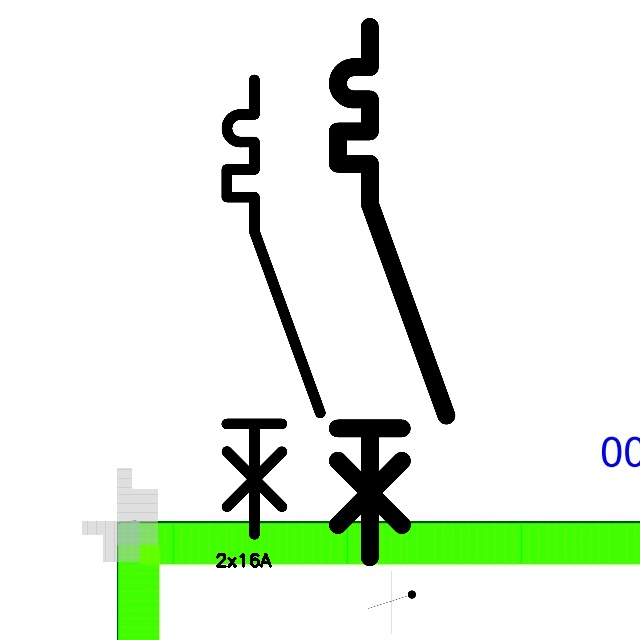interruptor_termomagnetico: (324, 13, 460, 570), (215, 68, 332, 546)
